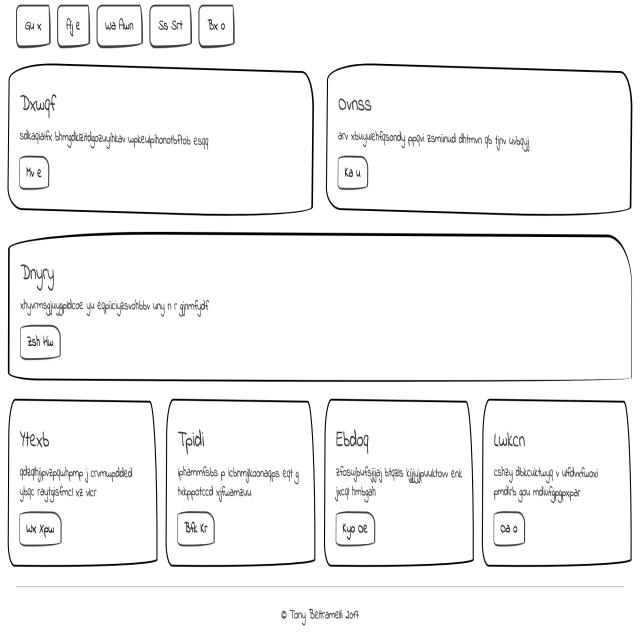Button: (16, 509, 71, 552), (332, 507, 380, 550), (491, 512, 539, 552), (173, 507, 217, 548), (18, 325, 63, 362), (17, 153, 55, 191), (336, 150, 370, 192)
Card: (5, 231, 635, 382), (325, 64, 634, 220), (7, 62, 315, 218), (9, 394, 158, 578), (482, 396, 635, 564), (167, 395, 315, 567), (324, 398, 473, 568)
Footer: (6, 579, 640, 640)
Heading 6: (17, 79, 63, 119), (15, 256, 63, 294), (175, 416, 215, 459), (332, 84, 379, 119), (335, 419, 376, 457), (490, 421, 531, 453), (18, 422, 53, 453)
Navigation Bar: (9, 0, 256, 55)
Paragraph: (16, 122, 217, 152), (335, 122, 533, 150), (332, 461, 464, 503), (172, 463, 306, 503), (16, 463, 138, 503), (488, 466, 598, 509), (19, 296, 214, 319)
